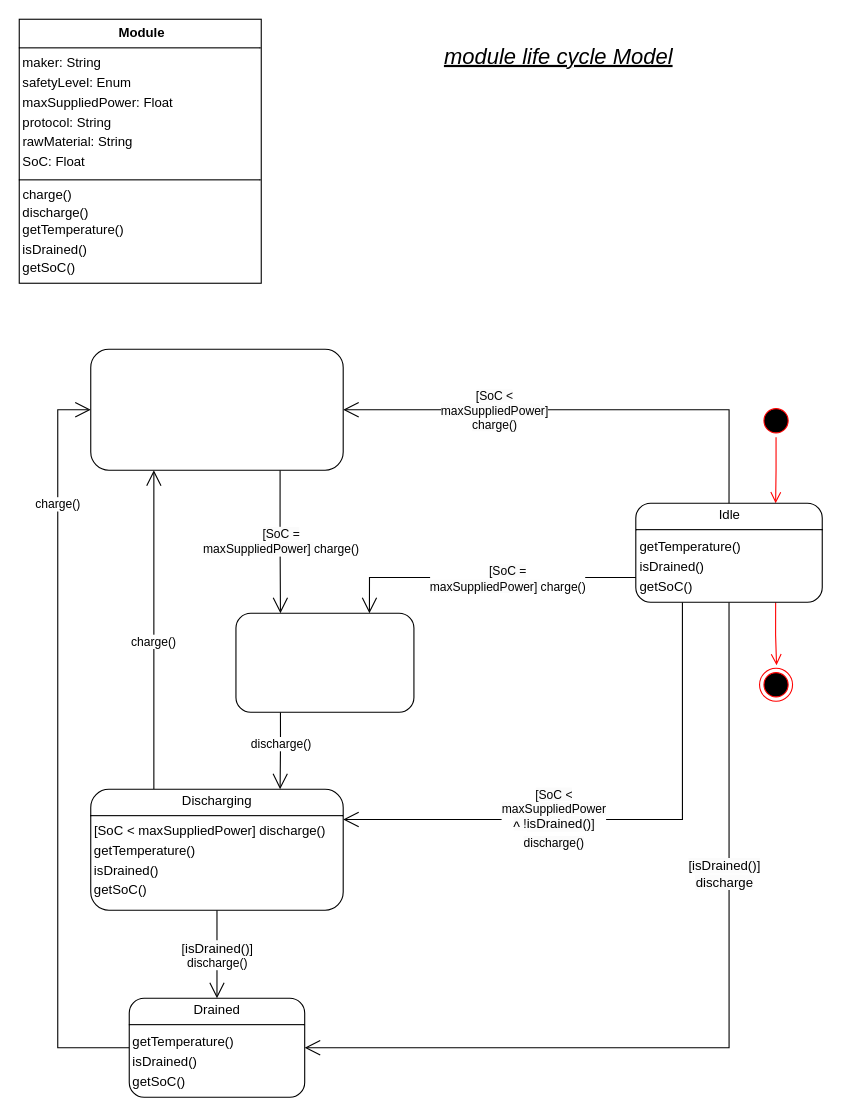
Some shapes in this 842 by 1117 pixel diagram are drawn without their labels. Each missing label, with the centre of its shape:
Charging [SoC < maxSuppliedPower] charge() getTemperature() isDrained() getSoC(): [216,409]
MaxedOut getTemperature() isDrained() getSoC(): [324,662]
